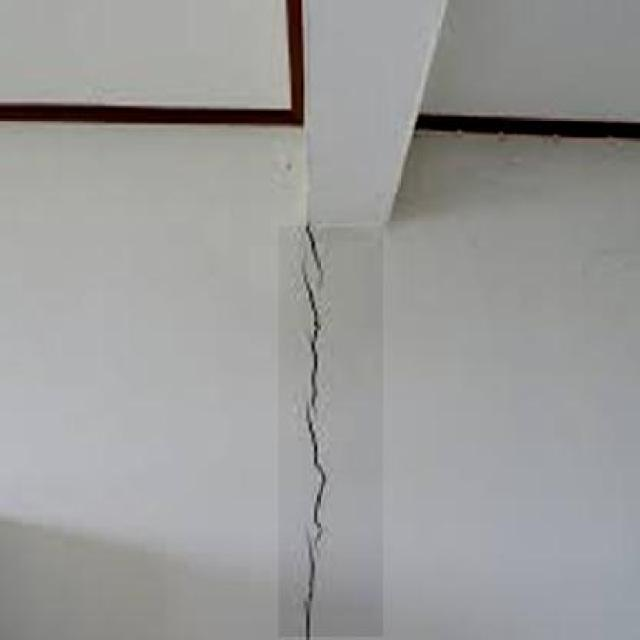Crack: (280, 218, 359, 640)
